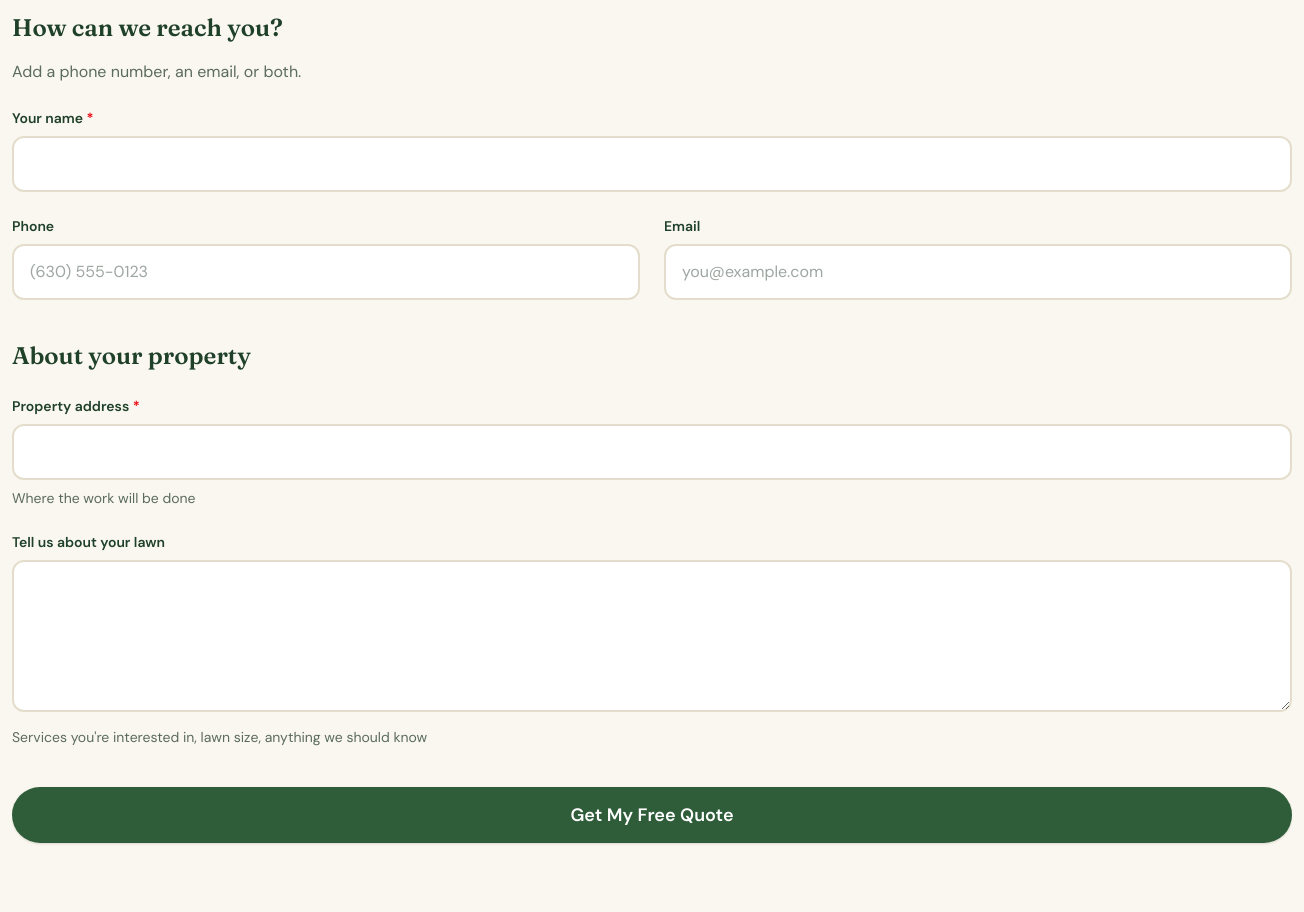
Test: QuoteForm › shows errors for the required fields when submitted empty
Step 1. Click the button "Get My Free Quote" → {"x": 652, "y": 815}, box [12,787,1292,843]
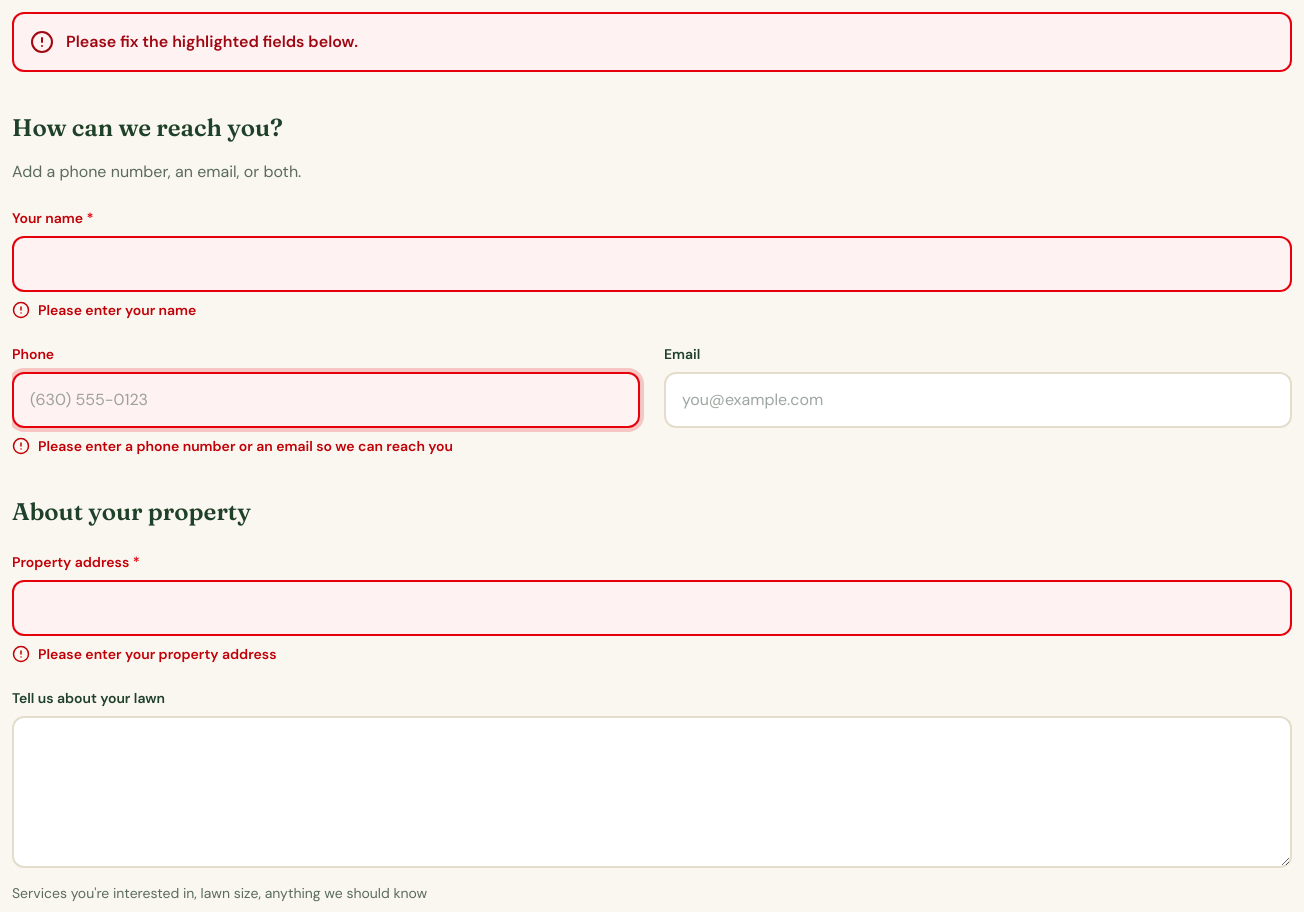
Now the text "Please enter your name" is shown, box [12,301,196,319]
Now the text "Please enter your property address" is shown, box [12,645,276,663]
Now the text "Please fix the highlighted fields below." is shown, box [12,12,1292,72]
